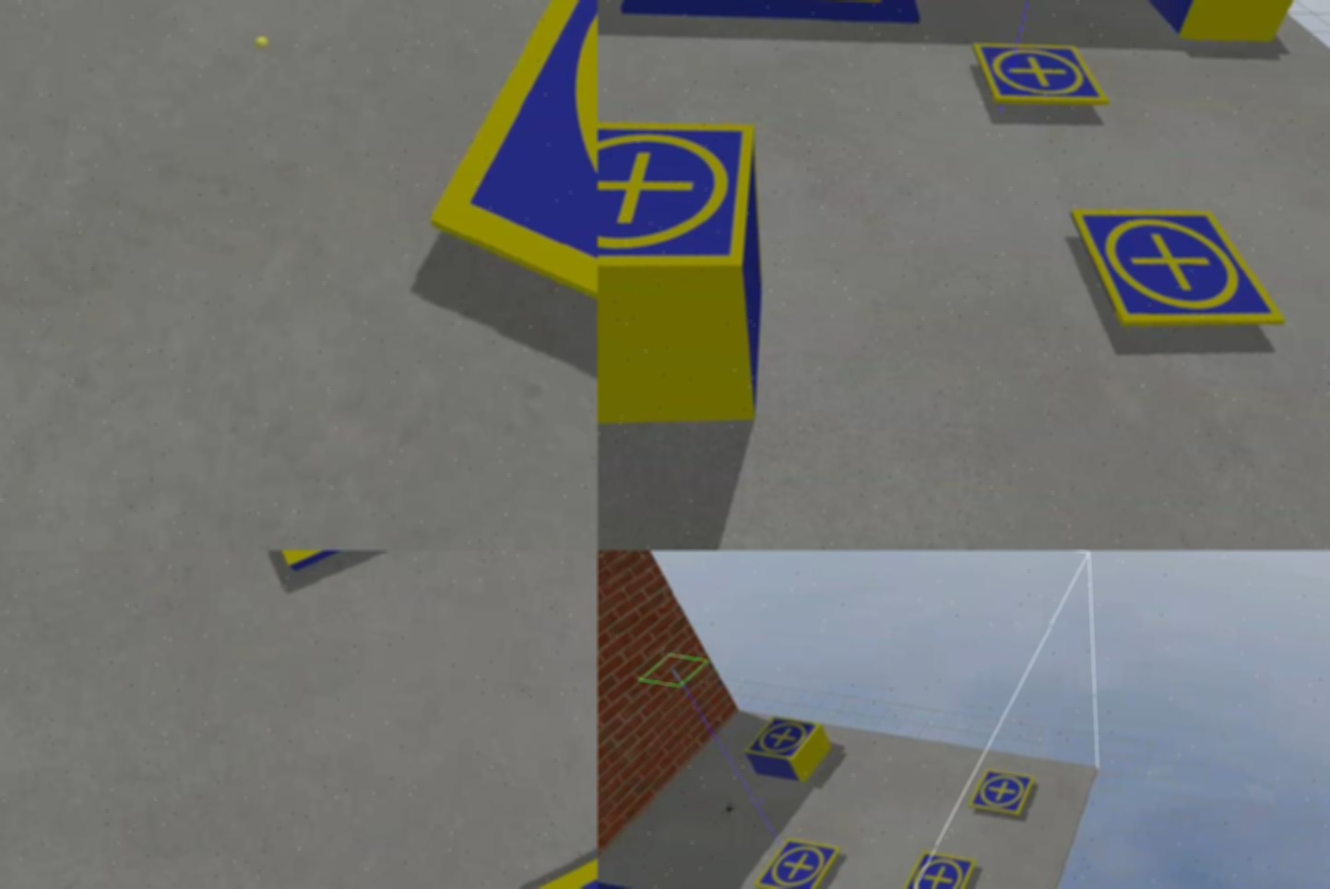large_base: (618, 1, 929, 41)
small_base: (410, 1, 598, 480), (1064, 203, 1296, 338), (598, 100, 756, 291), (968, 39, 1111, 113), (754, 838, 845, 889), (966, 765, 1040, 820), (748, 714, 822, 765), (900, 849, 982, 889)
